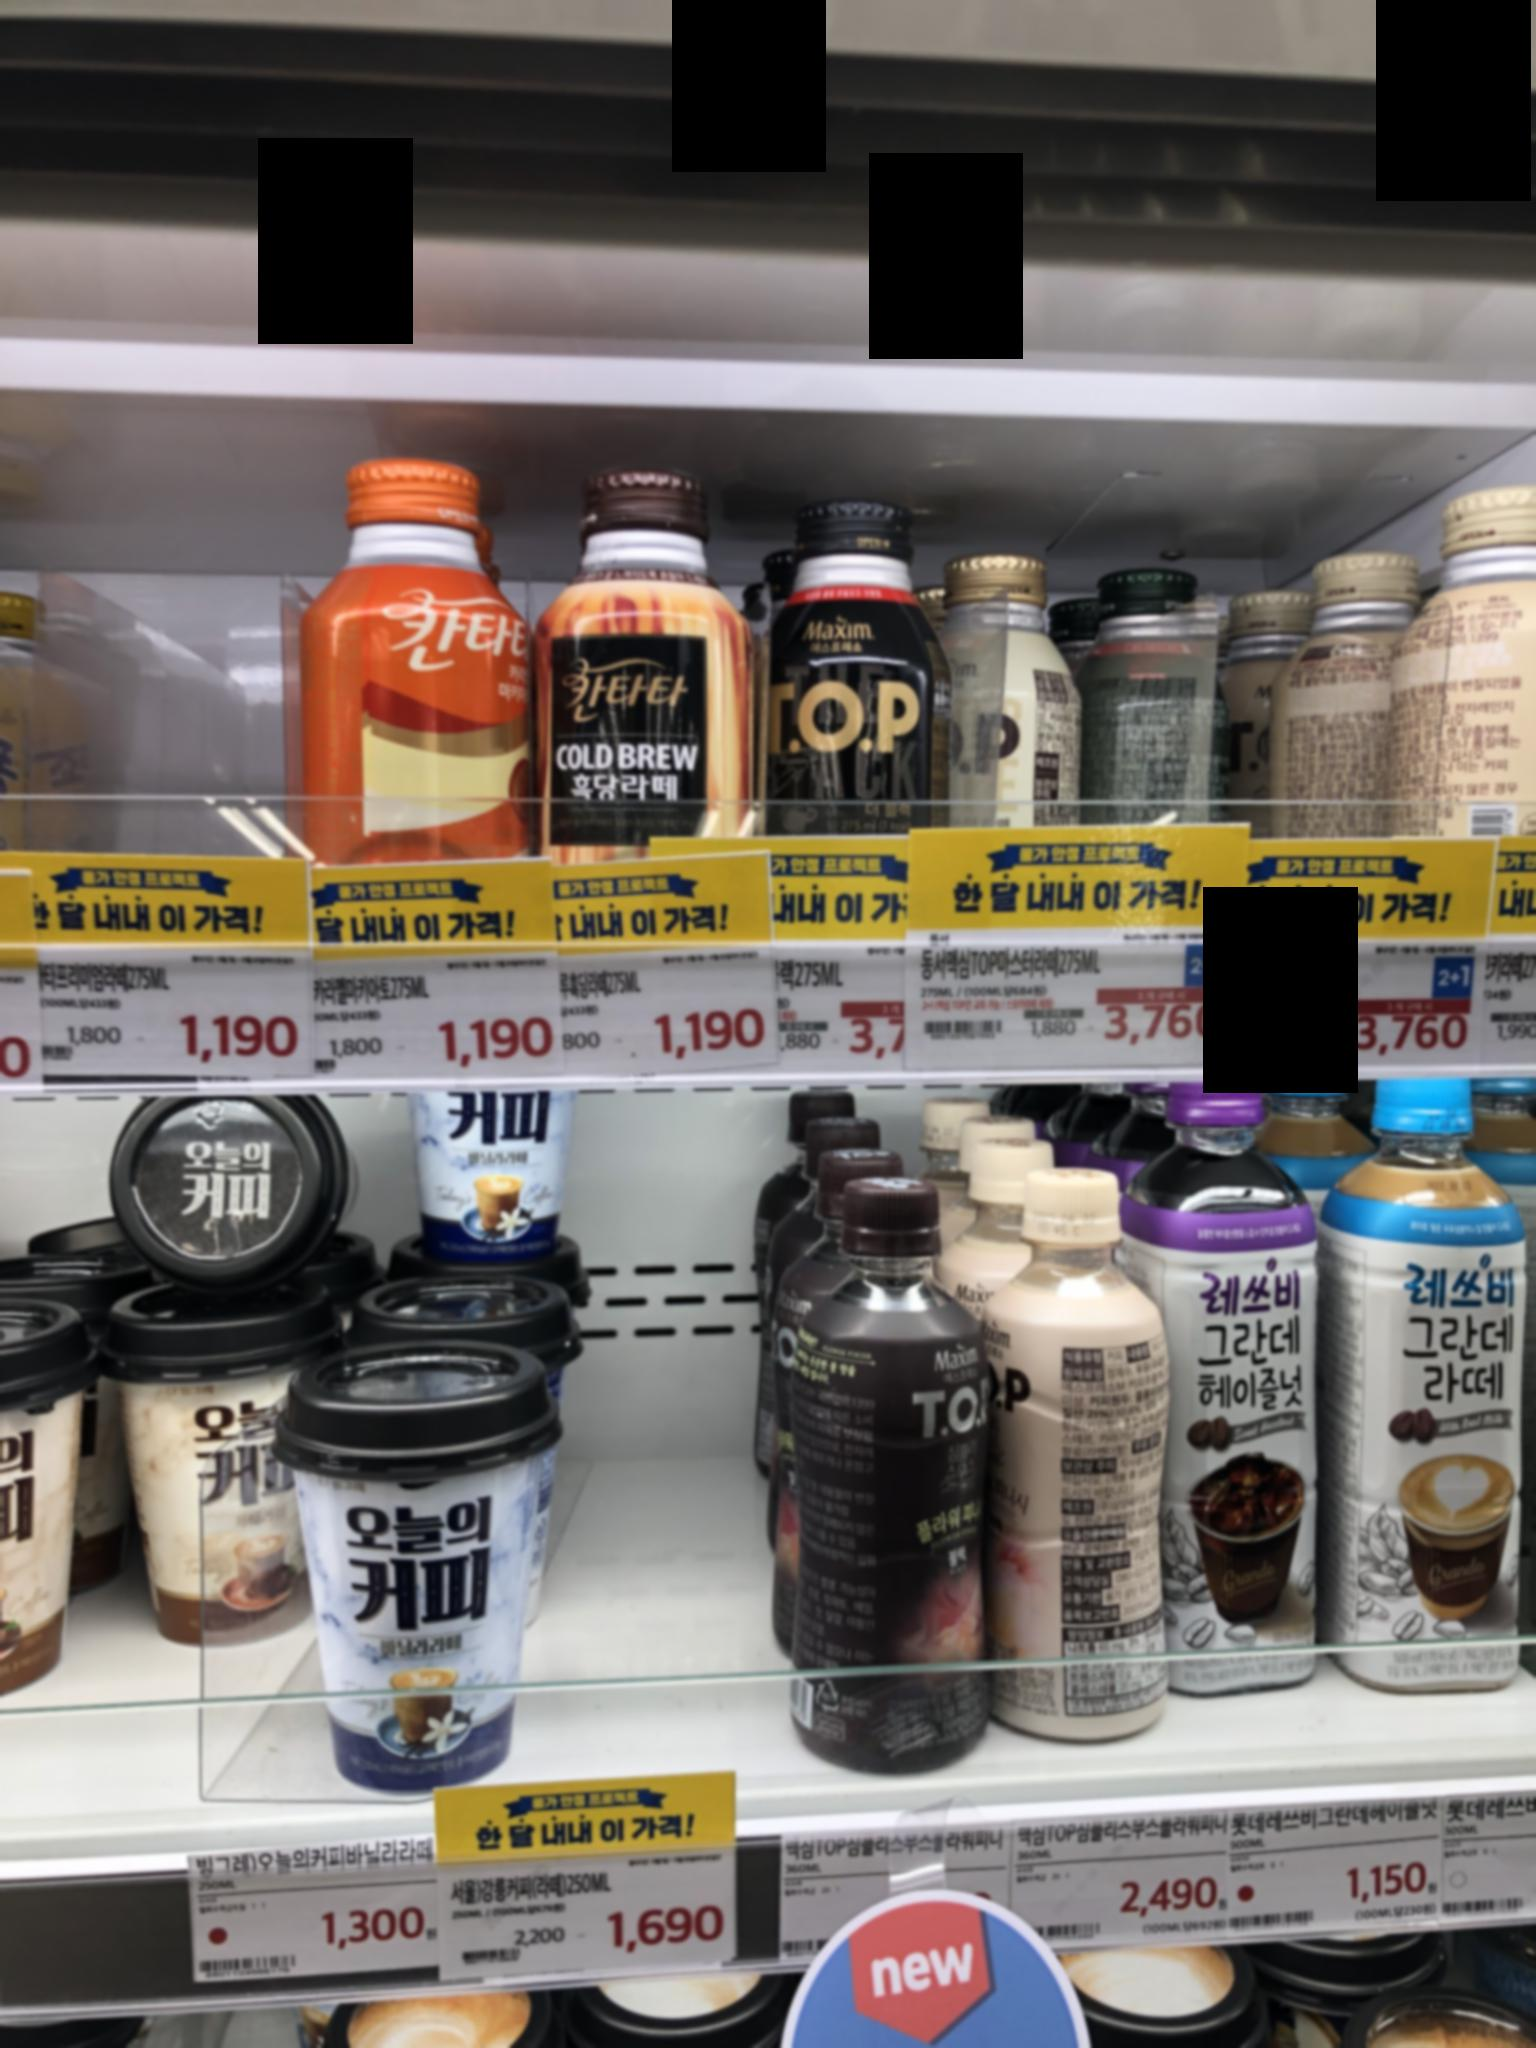TOP_black: (758, 487, 957, 845)
letsbe_grande_hazelnut: (1139, 1071, 1331, 1696)
